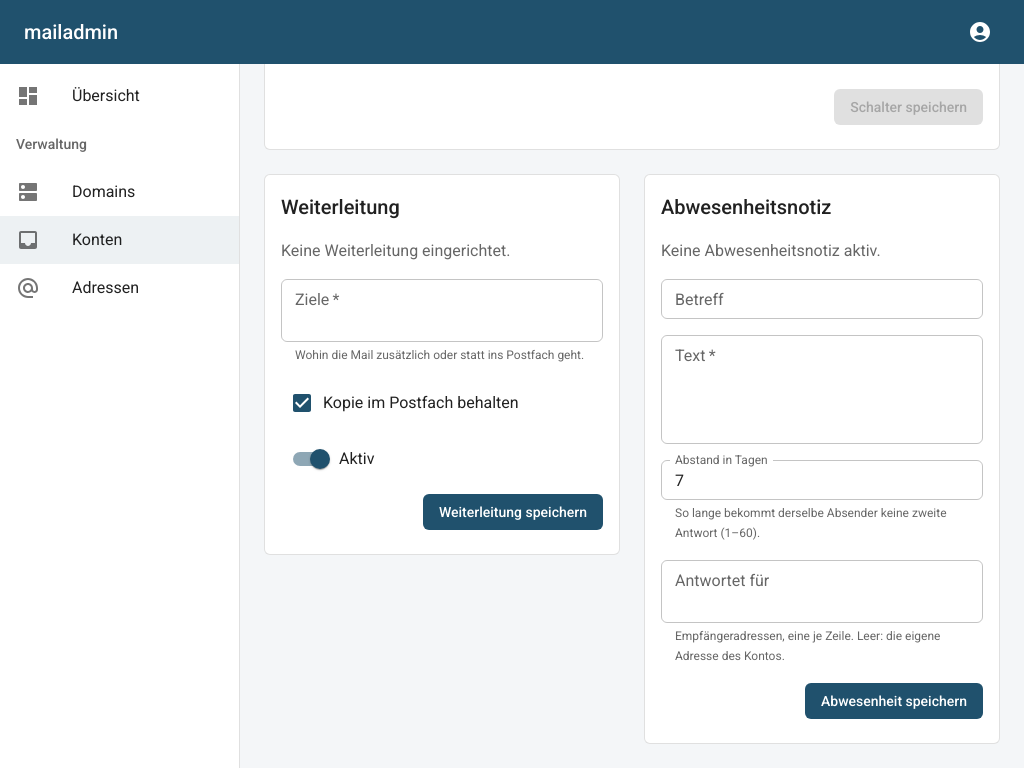
Test case: the vacation notice on the account page (A3) › saves a notice with the default interval
(page scrolled)
Expected: the text "Keine Abwesenheitsnotiz aktiv." is shown, [661,241,881,260]
Click the button "Abwesenheit speichern" at (894,701), box [805,683,983,719]
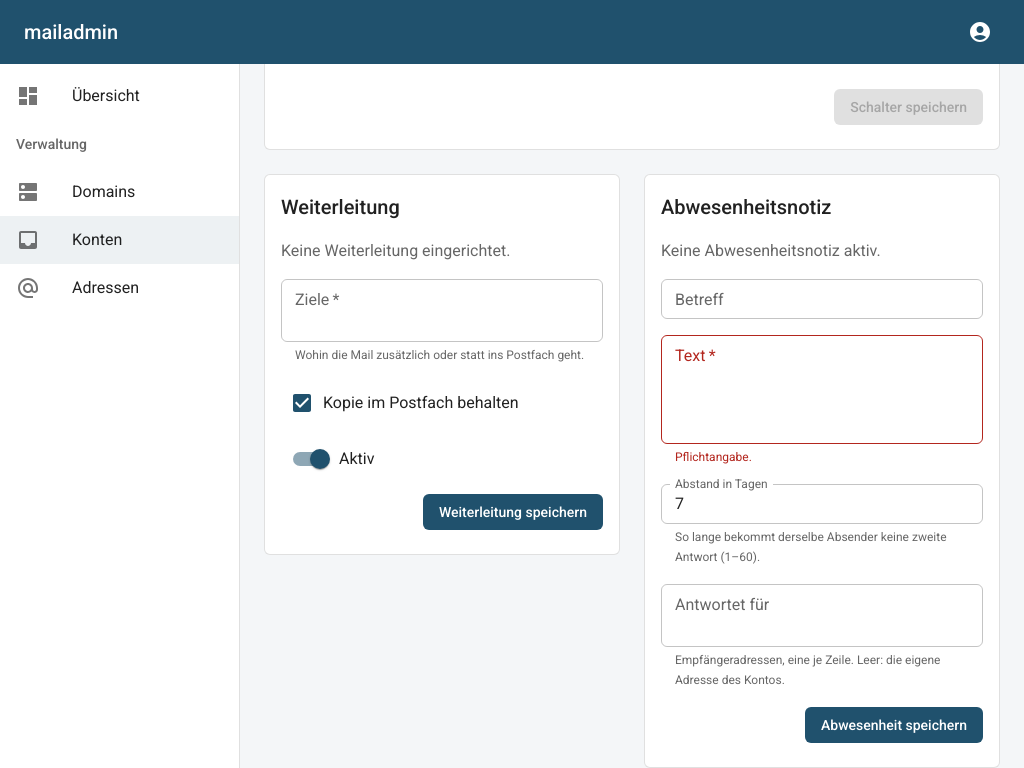
Expected: the text "Pflichtangabe." is shown, [675,450,752,464]
Type "Bin weg." into the text box labelled "Text *" at (822,390), box [675,344,969,436]
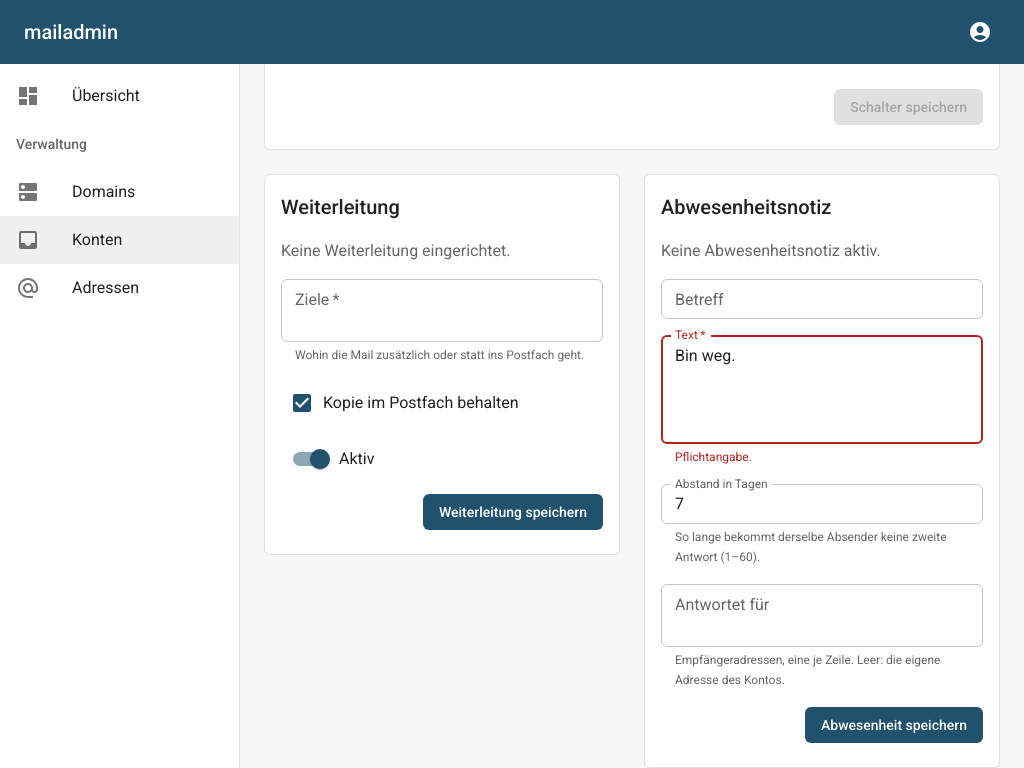
Click the button "Abwesenheit speichern" at (894,725), box [805,707,983,743]
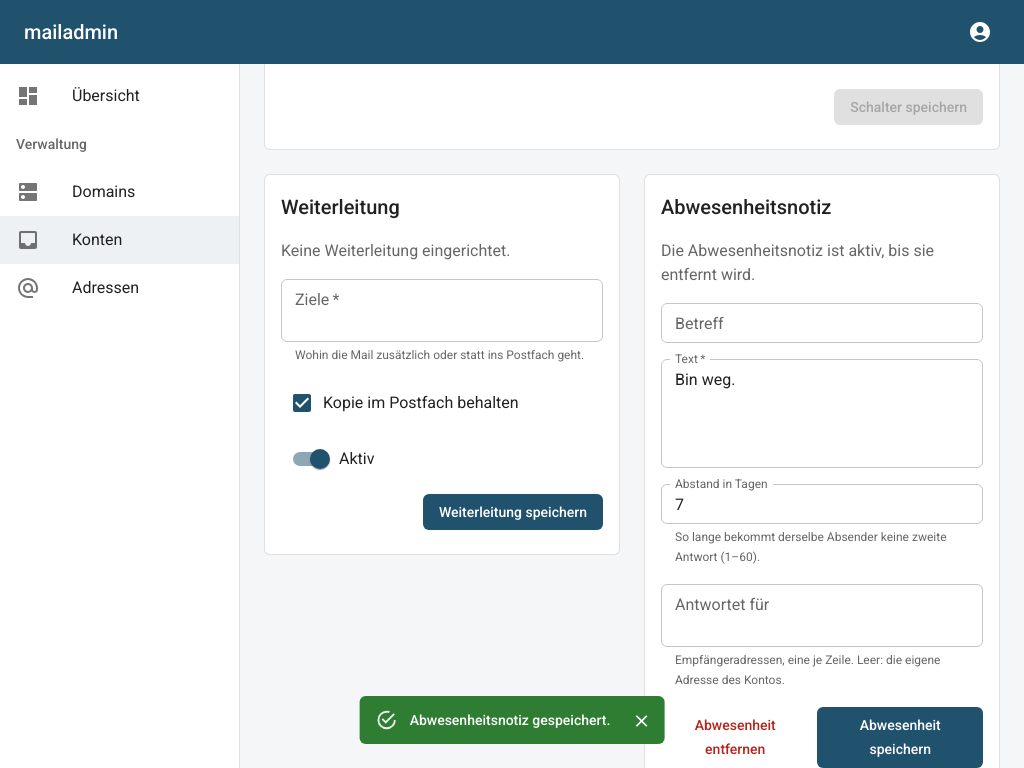
Expected: the text "Abwesenheitsnotiz gespeichert." is shown, [410,712,610,728]
